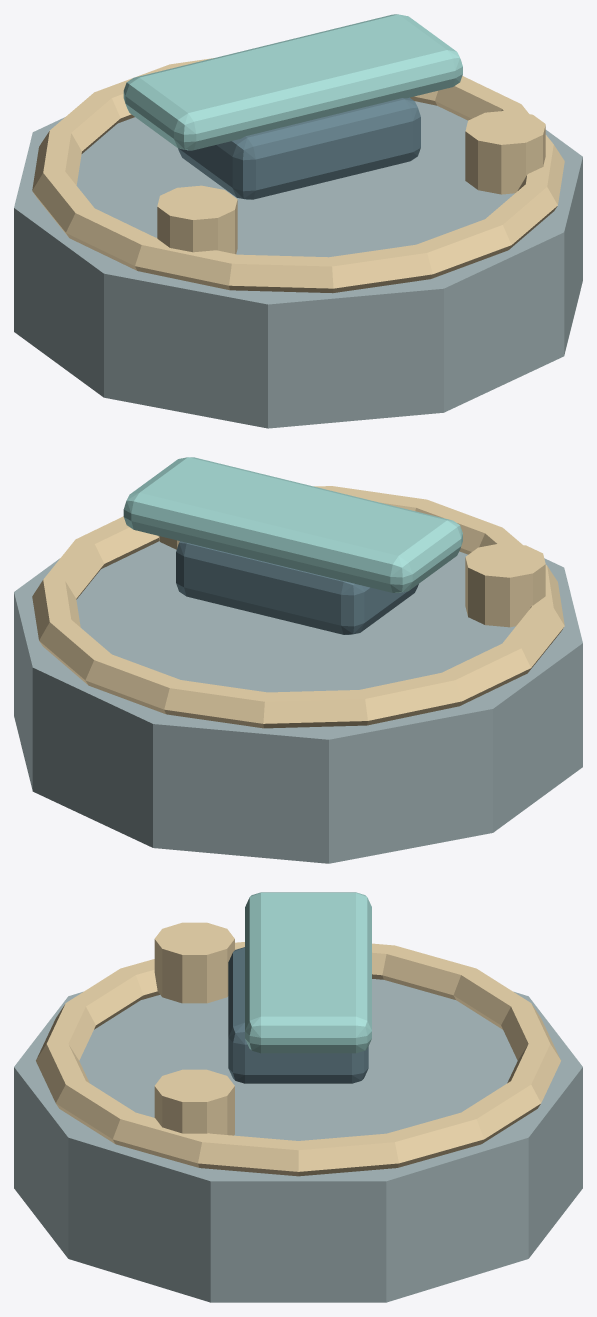
The model's file is forge.glb.
3 renders of one model, top to bottom at view 1: azimuth 30°, elevation 25°; view 2: azimuth 150°, elevation 25°; view 3: azimuth 270°, elevation 25°, orthographic. The views are drawn at different scales.
Visible parts, largest first — view 1: forge_Ocean_basalt, forge_Diver_brass, forge_Enamel_jade, forge_Deep_ocean_rubber; view 2: forge_Ocean_basalt, forge_Diver_brass, forge_Enamel_jade, forge_Deep_ocean_rubber; view 3: forge_Ocean_basalt, forge_Diver_brass, forge_Enamel_jade, forge_Deep_ocean_rubber.
Part boxes in pixels (<box>): forge_Ocean_basalt: <box>14,101,582,428</box>; forge_Diver_brass: <box>32,58,564,293</box>; forge_Enamel_jade: <box>123,14,462,150</box>; forge_Deep_ocean_rubber: <box>178,97,420,199</box>; forge_Ocean_basalt: <box>14,541,582,863</box>; forge_Diver_brass: <box>32,486,564,728</box>; forge_Enamel_jade: <box>123,457,462,592</box>; forge_Deep_ocean_rubber: <box>176,541,418,634</box>; forge_Ocean_basalt: <box>14,979,582,1302</box>; forge_Diver_brass: <box>36,922,560,1176</box>; forge_Enamel_jade: <box>245,892,371,1053</box>; forge_Deep_ocean_rubber: <box>228,947,368,1083</box>.
Size of the model in its own units: 1.62 by 0.77 by 1.7.
